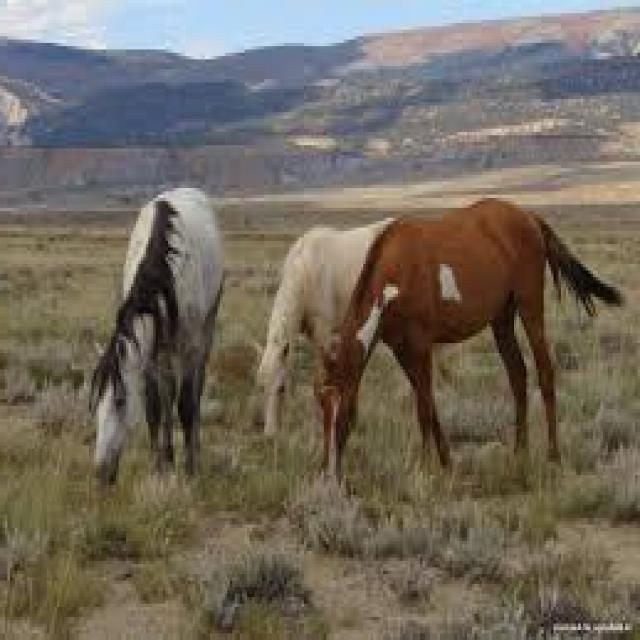horse: (312, 176, 574, 520), (229, 188, 401, 492), (77, 172, 226, 500)
